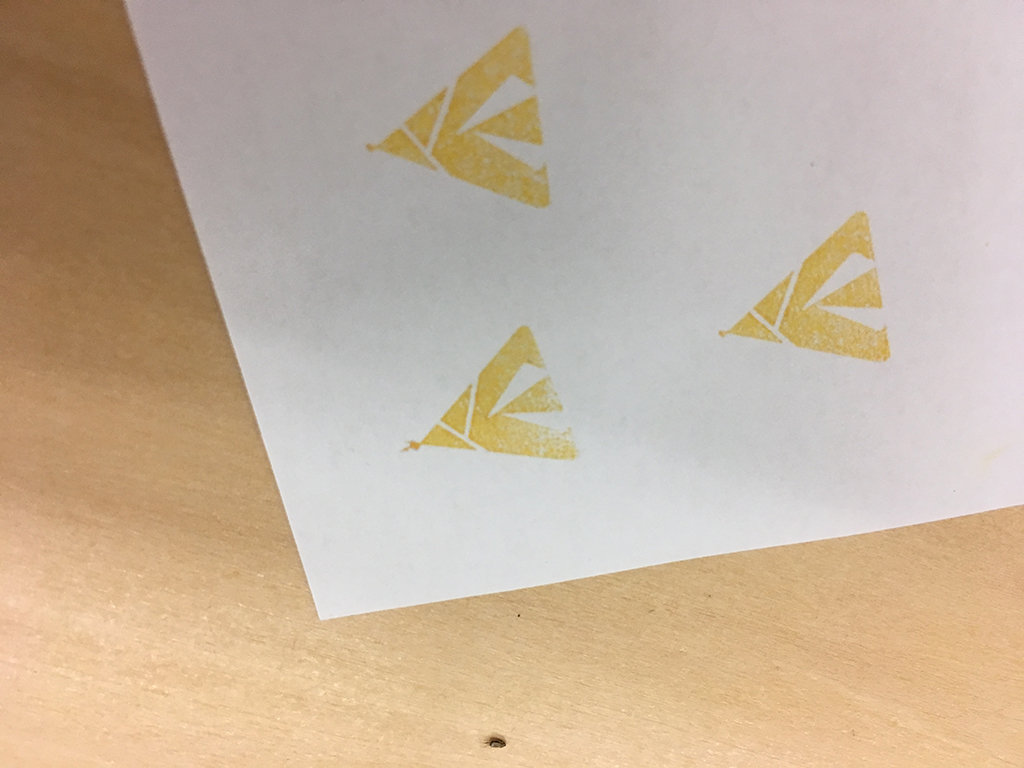tent: (341, 16, 560, 220), (707, 199, 896, 374), (390, 309, 588, 472)
